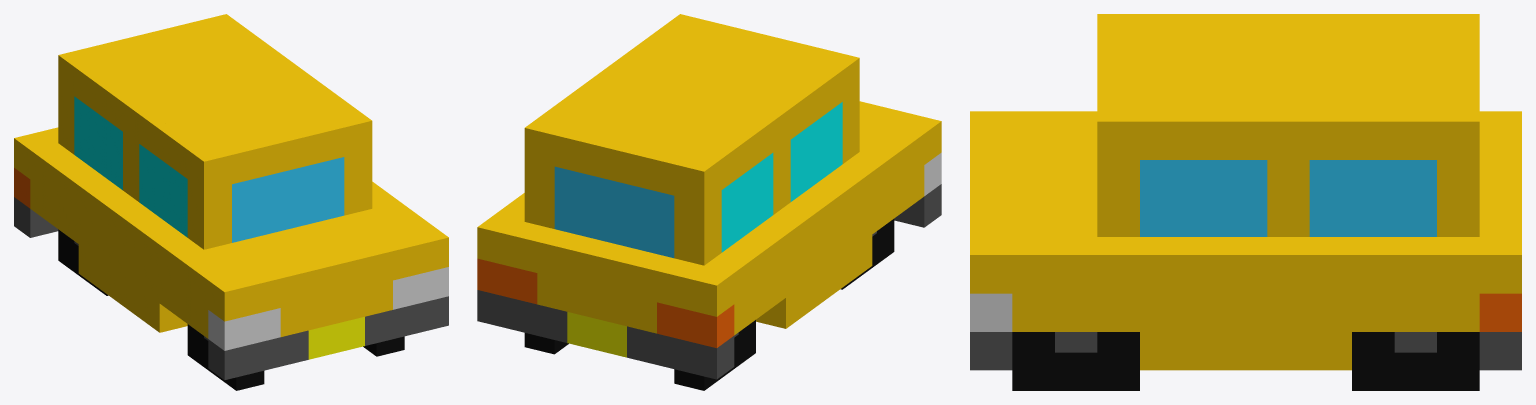
Rendered from Car_yellow.fbx.
The picture shows the model from 3 angles, left to right: view 1: azimuth 30°, elevation 25°; view 2: azimuth 150°, elevation 25°; view 3: azimuth 270°, elevation 25°; orthographic projection. The views are drawn at different scales.
Visible parts, largest first — view 1: 立方体.209, 立方体.421, 立方体.013, 立方体.367, 立方体.105, 立方体.313, 立方体.212, 立方体.425, 立方体.210, 立方体.211, 立方体.423, 立方体.213 (+142 smaller); view 2: 立方体.469, 立方体.305, 立方体.201, 立方体.097, 立方体.361, 立方体.415, 立方体.312, 立方体.471, 立方体.473, 立方体.310, 立方体.311, 立方体.472 (+130 smaller); view 3: 立方体.264, 立方体.444, 立方体.216, 立方体.224, 立方体.232, 立方体.240, 立方体.248, 立方体.256, 立方体.272, 立方体.280, 立方体.288, 立方体.296 (+133 smaller).
Part boxes in pixels (x1,y1,x2,y2): 立方体.209: (208,273,252,321); 立方体.421: (187,143,231,190); 立方体.013: (208,339,252,380); 立方体.367: (187,179,231,220); 立方体.105: (208,310,252,350); 立方体.313: (187,209,231,249); 立方体.212: (293,253,336,300); 立方体.425: (300,116,344,163); 立方体.210: (236,266,280,314); 立方体.211: (265,260,308,307); 立方体.423: (244,129,288,177); 立方体.213: (321,246,364,293); 立方体.469: (674,151,721,202); 立方体.305: (687,265,734,316); 立方体.201: (687,304,734,348); 立方体.097: (687,336,734,379); 立方体.361: (674,222,721,265); 立方体.415: (674,190,721,234); 立方体.312: (477,214,524,265); 立方体.471: (614,137,661,188); 立方体.473: (554,122,601,173); 立方体.310: (537,229,583,280); 立方体.311: (507,222,554,272); 立方体.472: (584,130,631,180); 立方体.264: (1224,237,1267,293); 立方体.444: (1224,103,1267,159); 立方体.216: (970,237,1012,293); 立方体.224: (1012,237,1054,293); 立方体.232: (1055,237,1097,293); 立方体.240: (1097,237,1139,293); 立方体.248: (1140,237,1182,293); 立方体.256: (1182,237,1224,293); 立方体.272: (1267,237,1309,293); 立方体.280: (1309,237,1351,293); 立方体.288: (1352,237,1394,293); 立方体.296: (1394,237,1436,293).
Bounding box in the file's own units: 800 × 700 × 1300.
